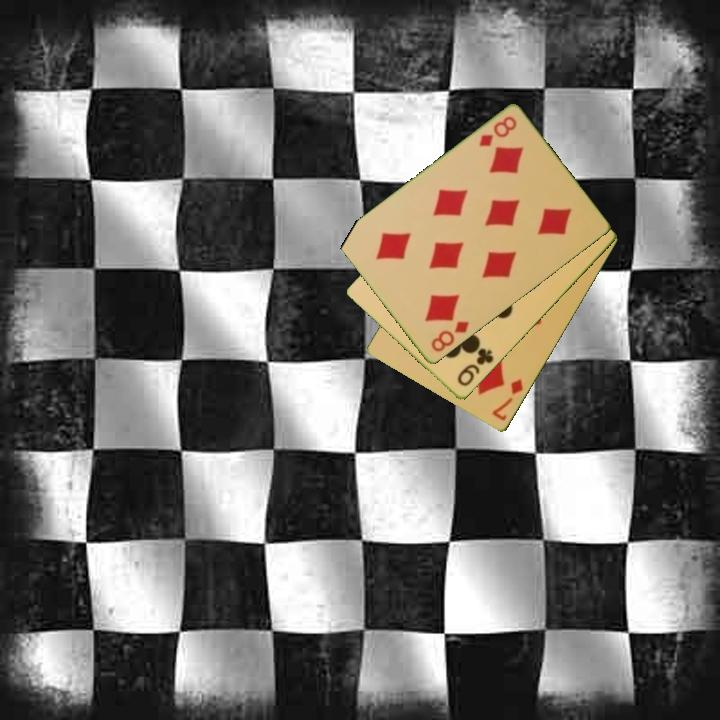7d: (489, 375, 526, 424)
8d: (427, 318, 472, 355), (475, 113, 520, 150)
9c: (454, 345, 497, 390)
